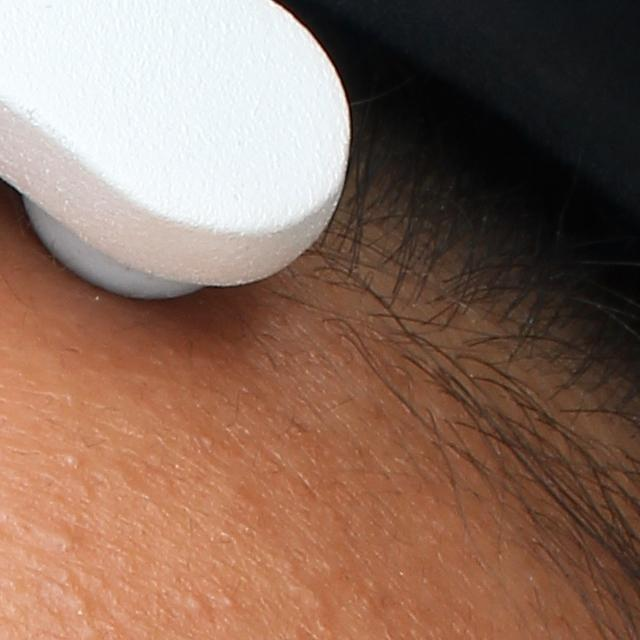comedo: (60, 593, 95, 621), (45, 528, 78, 555), (185, 594, 208, 615), (64, 453, 82, 471), (222, 594, 238, 608)
